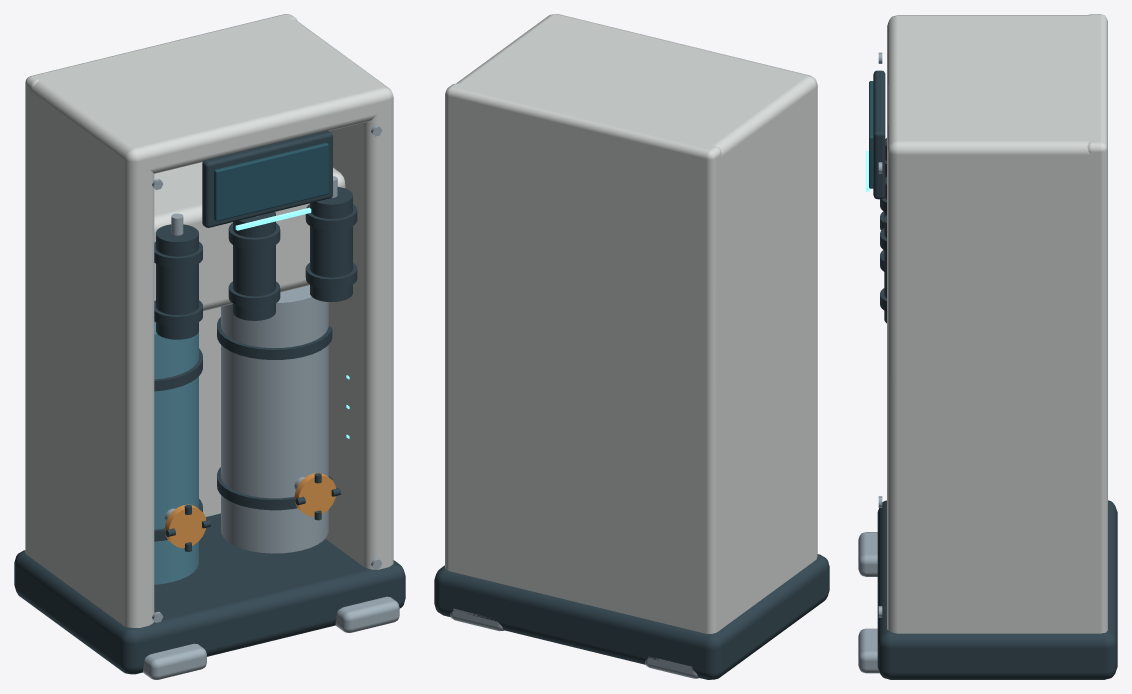
File: WaterRecycler.glb
3 renders of one model, left to right at view 1: azimuth 30°, elevation 25°; view 2: azimuth 150°, elevation 25°; view 3: azimuth 270°, elevation 25°, orthographic. The views are drawn at different scales.
Visible parts, largest first — view 1: Structural upright (×2), Top cap, Equipment plinth, Used water tank, Filter capsule (×3), Clean water tank, Insulated back, Processor housing, Retaining band (×9), Blank display, Mounting foot (×2), Control bezel (+1 smaller); view 2: Insulated back, Structural upright (×2), Top cap, Equipment plinth, Mounting foot; view 3: Structural upright (×2), Top cap, Equipment plinth, Insulated back, Mounting foot (×2), Control bezel, Blank display.
Part boxes in pixels (box(x1,y1,x2,y2)): Structural upright (×2): box(27, 16, 393, 627); Top cap: box(27, 16, 393, 173); Equipment plinth: box(14, 513, 405, 674); Used water tank: box(221, 285, 328, 553); Filter capsule (×3): box(156, 187, 352, 339); Clean water tank: box(154, 322, 198, 584); Insulated back: box(25, 14, 297, 556); Processor housing: box(154, 162, 345, 322); Retaining band (×9): box(154, 204, 357, 510); Blank display: box(214, 142, 328, 221); Mounting foot (×2): box(143, 596, 399, 679); Control bezel: box(202, 130, 332, 227); Insulated back: box(445, 83, 721, 633); Structural upright (×2): box(451, 14, 817, 632); Top cap: box(451, 14, 817, 170); Equipment plinth: box(434, 554, 829, 679); Mounting foot: box(645, 656, 698, 678); Structural upright (×2): box(887, 15, 1096, 633); Top cap: box(887, 16, 1096, 165); Equipment plinth: box(877, 500, 1117, 679); Insulated back: box(1087, 14, 1107, 633); Mounting foot (×2): box(858, 532, 879, 673); Control bezel: box(873, 70, 885, 199); Blank display: box(869, 81, 873, 188).
Size of the model in its own units: 0.7 by 1.23 by 0.54.
